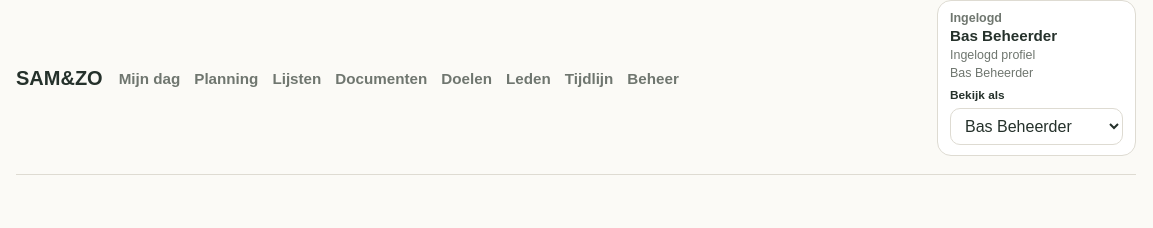
Test case: AppHeader profielswitchgedrag › toont een profielselector en wijzigt de actieve profiellabel na selectie
Select "Milan Medewerker" in the dropdown labelled "Bekijk als". click: x=1036, y=126
box: x1=950 y1=108 x2=1123 y2=145
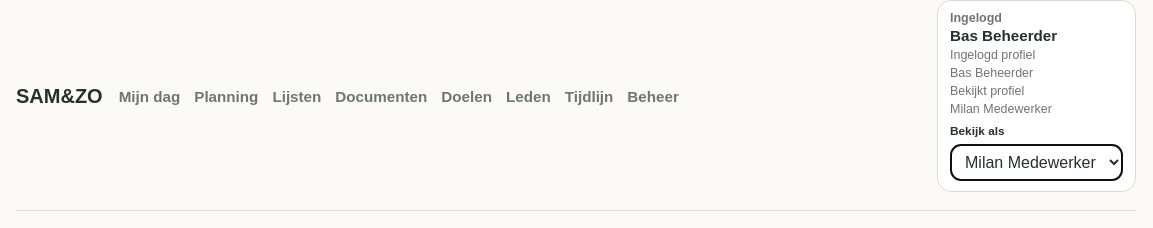
Now the text "Ingelogd profiel" is shown once, box x1=950 y1=48 x2=1035 y2=62
Now the text "Bekijkt profiel" is shown, box x1=950 y1=84 x2=1024 y2=98
